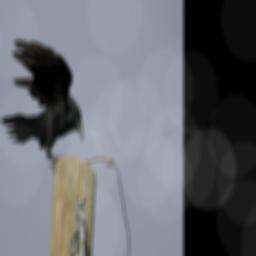Crow: (0, 37, 84, 172)
